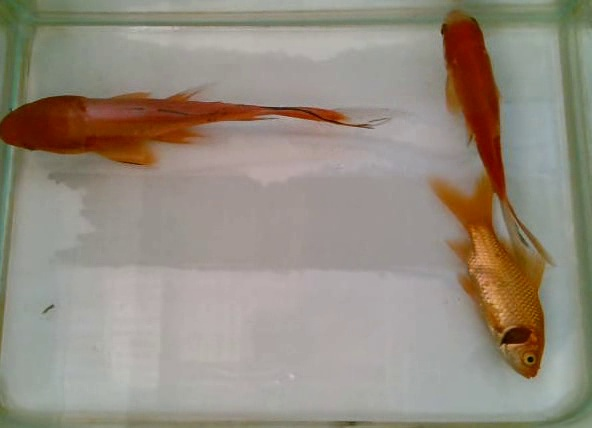alive_fish: (425, 7, 570, 272), (1, 78, 404, 172)
dead_fish: (425, 166, 555, 388)
